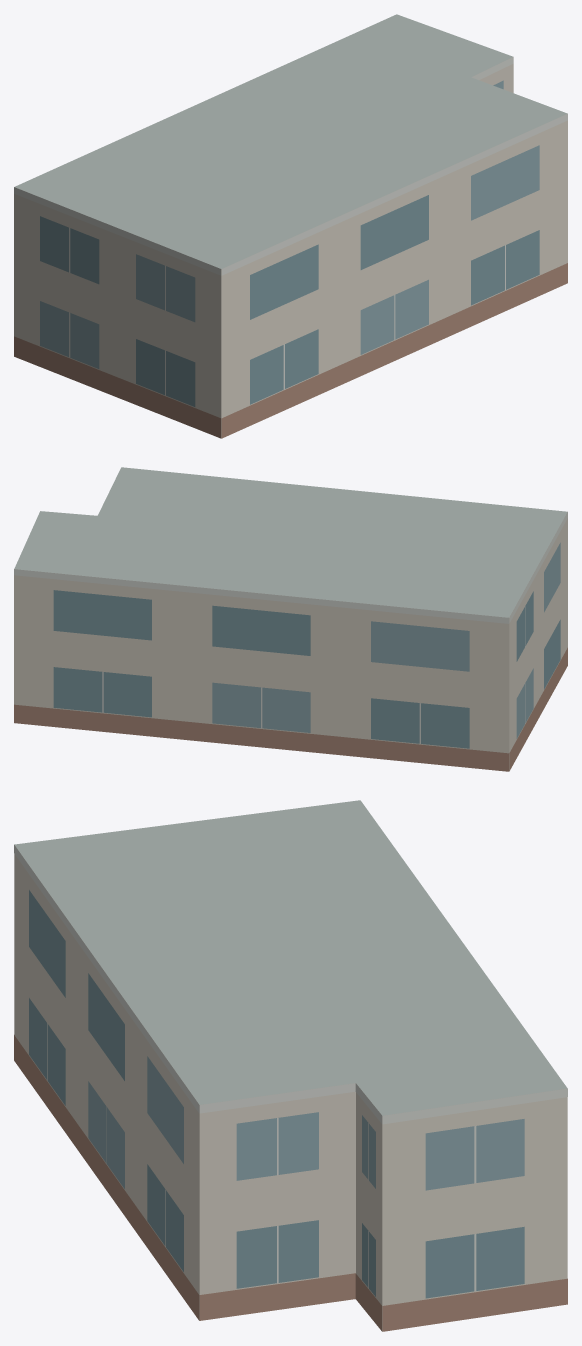
The model's file is survey-upis-32839685.glb.
3 renders of one model, top to bottom at view 1: azimuth 30°, elevation 25°; view 2: azimuth 150°, elevation 25°; view 3: azimuth 270°, elevation 25°, orthographic. The views are drawn at different scales.
Visible parts, largest first — view 1: survey-upis-32839685.tmp; view 2: survey-upis-32839685.tmp; view 3: survey-upis-32839685.tmp.
Part boxes in pixels (x1=…): survey-upis-32839685.tmp: x1=14, y1=14, x2=567, y2=438; survey-upis-32839685.tmp: x1=14, y1=467, x2=567, y2=771; survey-upis-32839685.tmp: x1=14, y1=800, x2=567, y2=1331.
Bounding box in the file's own units: 19.14 × 6.1 × 14.18.
